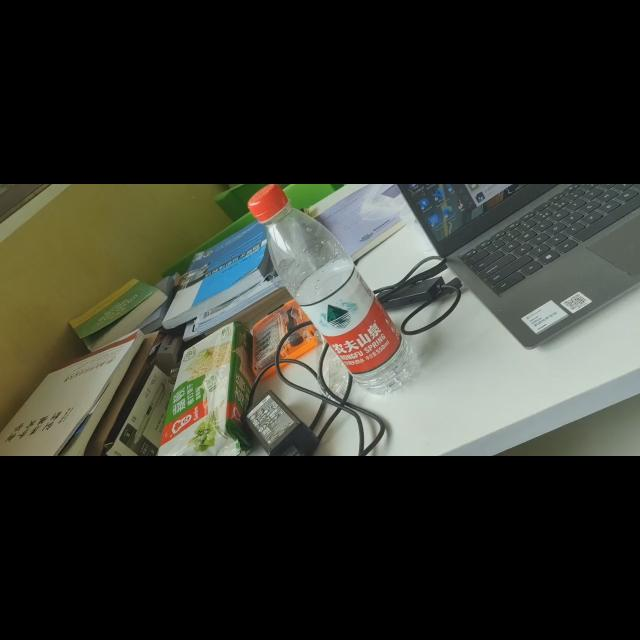trash: (245, 184, 415, 392)
